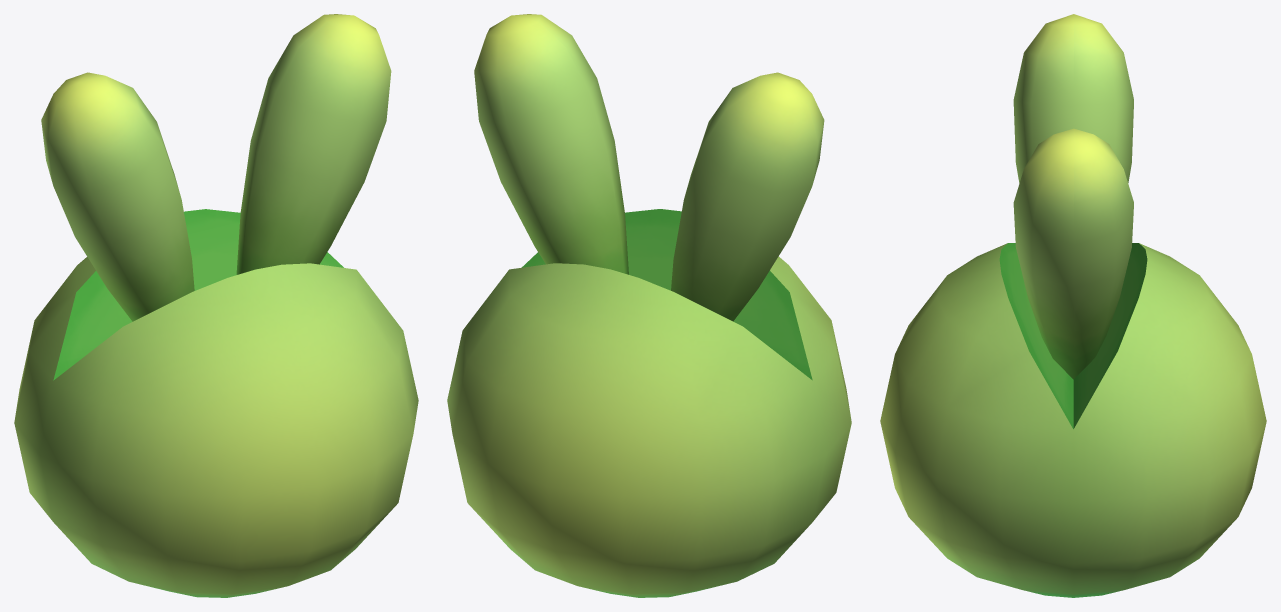
The model's file is Succulents_03_S.fbx.
The picture shows the model from 3 angles, left to right: view 1: azimuth 30°, elevation 25°; view 2: azimuth 150°, elevation 25°; view 3: azimuth 270°, elevation 25°; orthographic projection. The views are drawn at different scales.
Parts seen in each view (by area): view 1: Object008; view 2: Object008; view 3: Object008.
Part boxes in pixels (x1=…): Object008: x1=14, y1=14, x2=418, y2=597; Object008: x1=447, y1=14, x2=851, y2=597; Object008: x1=880, y1=14, x2=1266, y2=597.
Bounding box in the file's own units: 16.8 × 23.98 × 16.8.
